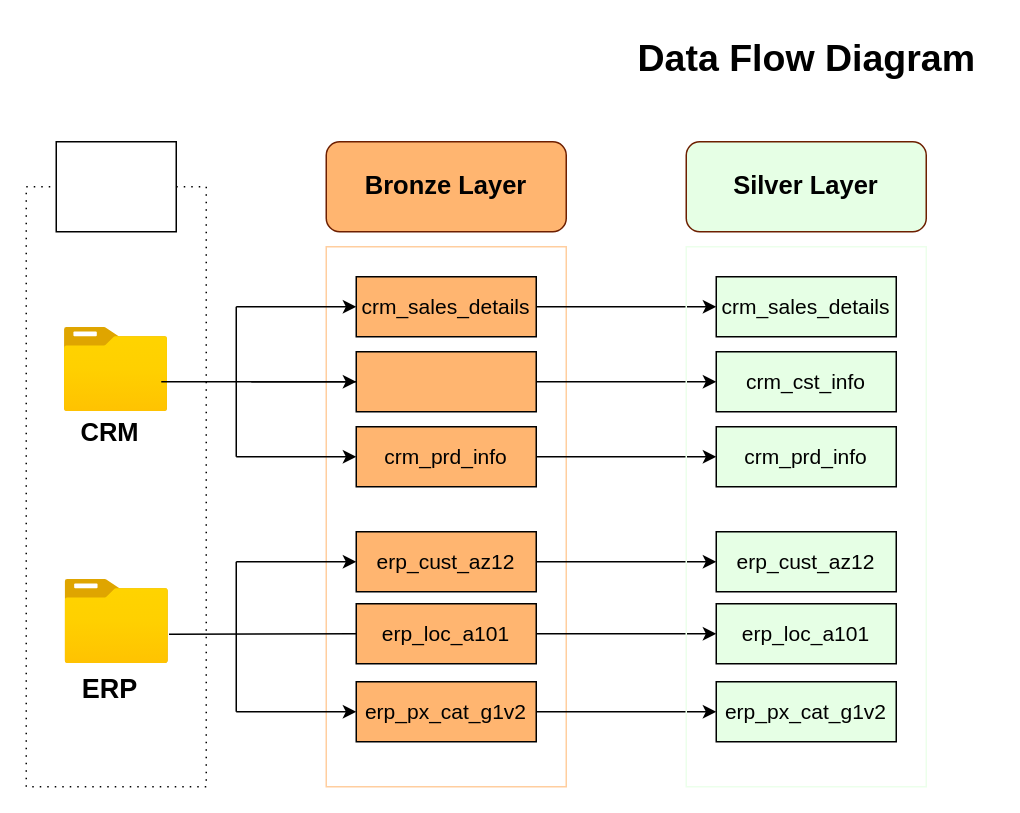
Image size: 1020x813. Some labels were removed from this diagram. The shapes that lost their labels are listed below. From the top down, each one's centre as x and y in pixels, then its label:
the point at 115,186: Sources
the point at 445,381: crm_cust_info
